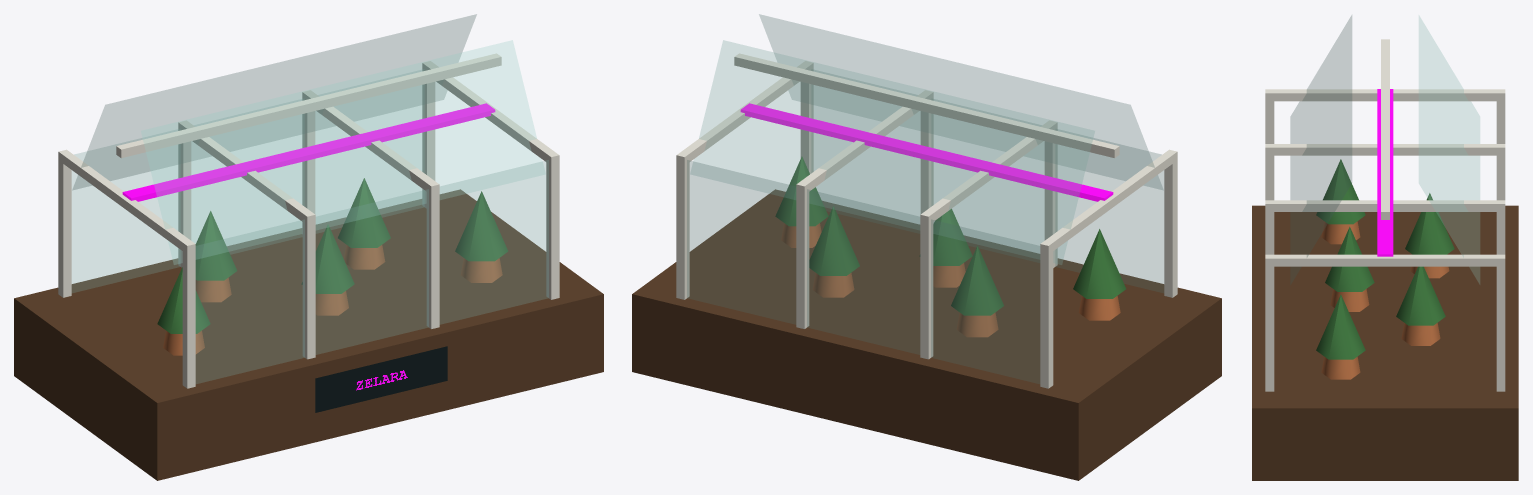
Rendered from greenhouse-barge.glb.
3 views of the same model, side by side, from view 1: azimuth 30°, elevation 25°; view 2: azimuth 150°, elevation 25°; view 3: azimuth 270°, elevation 25° (orthographic). The views are drawn at different scales.
Parts seen in each view (by area): view 1: GreenhouseBarge; view 2: GreenhouseBarge; view 3: GreenhouseBarge.
Boxes of the visible parts, x1,y1,x2,y2 form: GreenhouseBarge: [14, 14, 603, 480]; GreenhouseBarge: [632, 14, 1221, 480]; GreenhouseBarge: [1252, 15, 1518, 480].
Bounding box in the file's own units: 5.4 × 3.49 × 3.02.
Materials: 10 (1 with a texture image).
